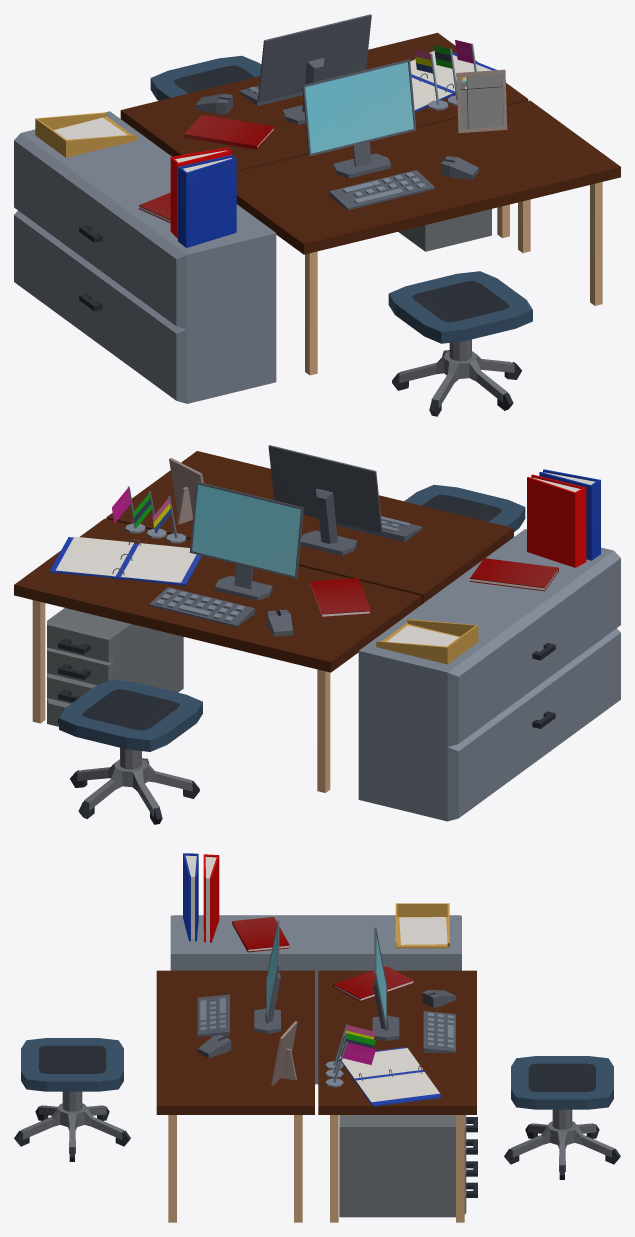
The model's file is g_o_Hiringdesk2Police.fbx.
3 views of the same model, one above another, from view 1: azimuth 30°, elevation 25°; view 2: azimuth 150°, elevation 25°; view 3: azimuth 270°, elevation 25° (orthographic). The views are drawn at different scales.
Visible parts, largest first — view 1: g_o_HiringDeskFireFighters; view 2: g_o_HiringDeskFireFighters; view 3: g_o_HiringDeskFireFighters.
Boxes of the visible parts, x1,y1,x2,y2 form: g_o_HiringDeskFireFighters: [14, 14, 620, 416]; g_o_HiringDeskFireFighters: [14, 445, 620, 824]; g_o_HiringDeskFireFighters: [14, 853, 620, 1222].
Size of the model in its own units: 2.51 by 1.24 by 3.38.
